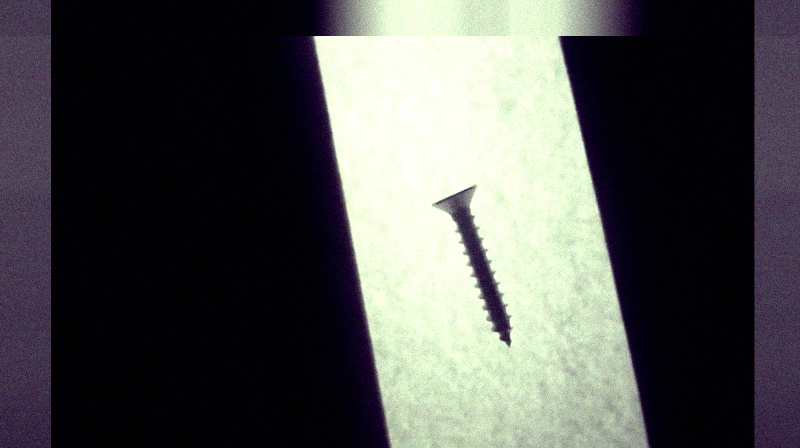S001: (429, 181, 514, 350)
